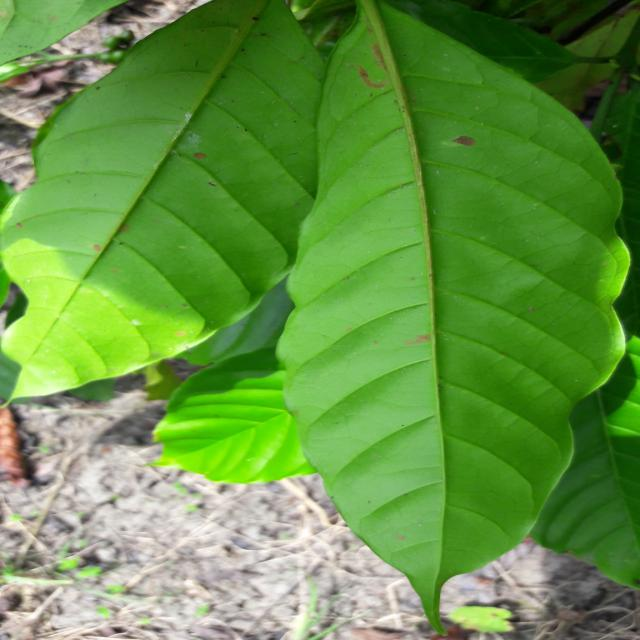Plaga-AranaRoja: (276, 0, 632, 626)
